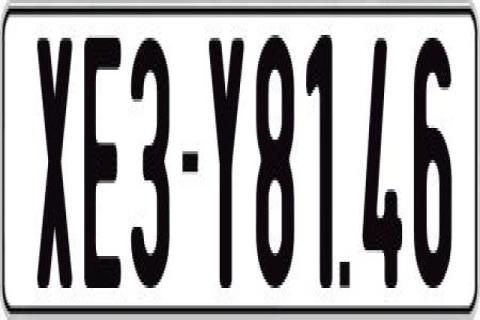0: (414, 29, 458, 297), (360, 35, 406, 291), (254, 29, 297, 299), (128, 35, 172, 297), (305, 27, 333, 280)
E: (81, 38, 121, 297)
X: (38, 29, 78, 285)
Y: (206, 35, 248, 285)
